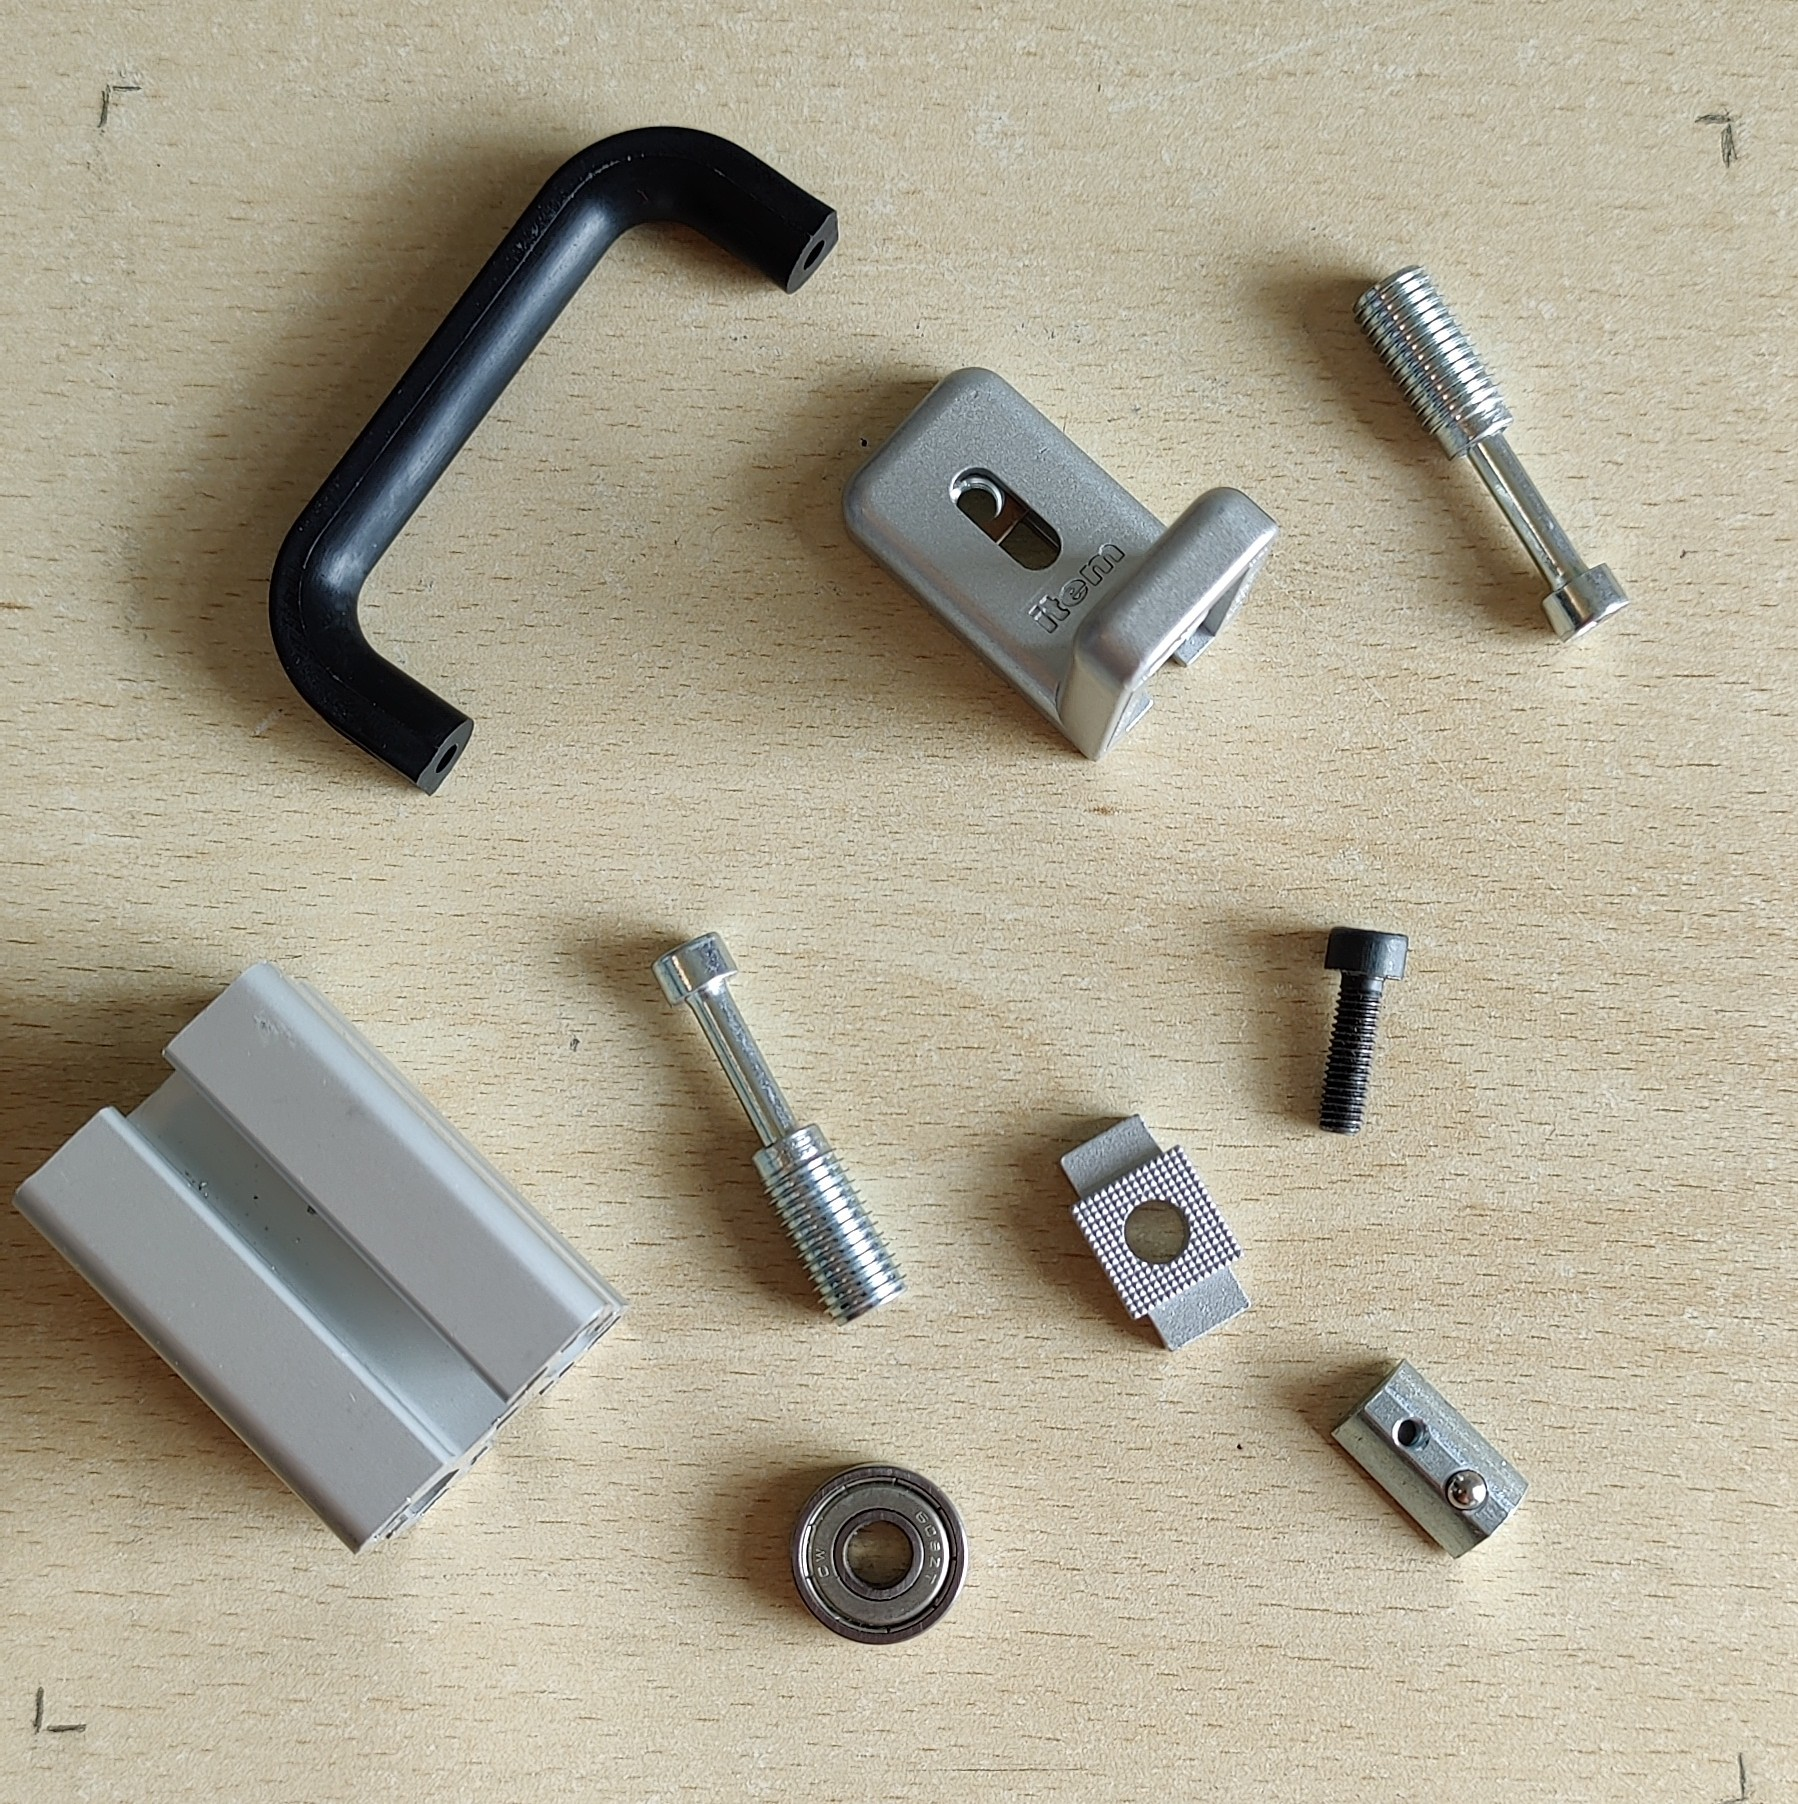Aluminium Extension: (8, 956, 631, 1555)
Ball Bearing: (785, 1463, 971, 1644)
Multiwinkel: (840, 369, 1281, 764)
Pull Handle: (268, 122, 843, 798)
Shoulder Socket Head Cap Screw: (1352, 262, 1635, 649), (647, 927, 909, 1328)
Socket Head Cap Screw: (1316, 927, 1414, 1137)
T Nut Square: (1055, 1114, 1261, 1353)
T Spring Nut: (1329, 1356, 1530, 1564)
